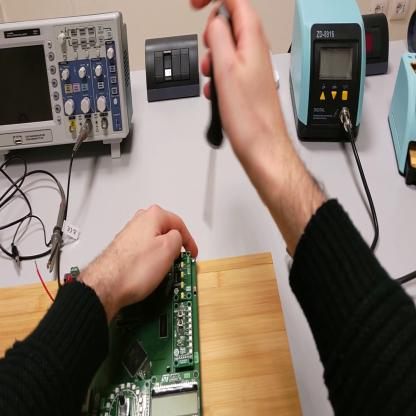hand: (194, 2, 286, 175), (103, 204, 199, 310)
low voltage board: (37, 246, 203, 416)
oscilloscope: (2, 9, 134, 164)
oscilloscope probe tip: (48, 181, 66, 273)
socket: (363, 11, 391, 76), (407, 11, 416, 53)
welder base: (387, 48, 416, 189)
welder station: (290, 1, 365, 147)
working area: (1, 255, 304, 416)
